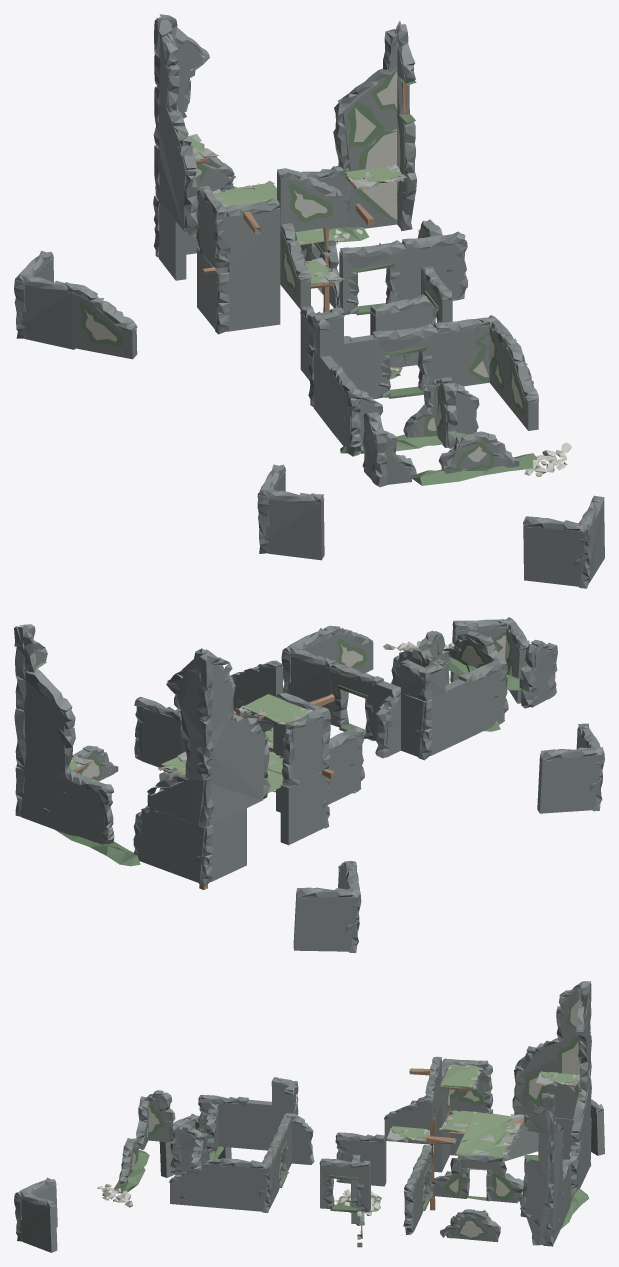
File: jungle_ruins_a-map.glb
3 views of the same model, one above another, from view 1: azimuth 30°, elevation 25°; view 2: azimuth 150°, elevation 25°; view 3: azimuth 270°, elevation 25° (orthographic). The views are drawn at different scales.
Visible parts, largest first — view 1: jungle_ruins_2-S_corner_A_LOD0, jungle_ruins_floor_300x600_a_LOD0, jungle_ruins_2-S_corner_B_LOD0; view 2: jungle_ruins_2-S_corner_A_LOD0, jungle_ruins_floor_300x600_a_LOD0, jungle_ruins_2-S_corner_B_LOD0; view 3: jungle_ruins_2-S_corner_A_LOD0, jungle_ruins_floor_300x600_a_LOD0, jungle_ruins_2-S_corner_B_LOD0.
Part boxes in pixels (x1,y1,x2,y2): jungle_ruins_2-S_corner_A_LOD0: [14, 14, 604, 588]; jungle_ruins_floor_300x600_a_LOD0: [188, 134, 406, 285]; jungle_ruins_2-S_corner_B_LOD0: [193, 82, 407, 312]; jungle_ruins_2-S_corner_A_LOD0: [14, 617, 604, 952]; jungle_ruins_floor_300x600_a_LOD0: [69, 694, 312, 792]; jungle_ruins_2-S_corner_B_LOD0: [74, 694, 334, 889]; jungle_ruins_2-S_corner_A_LOD0: [14, 981, 604, 1252]; jungle_ruins_floor_300x600_a_LOD0: [386, 1064, 579, 1194]; jungle_ruins_2-S_corner_B_LOD0: [360, 1068, 573, 1236].
Bounding box in the file's own units: 20.06 × 15.76 × 35.15.
